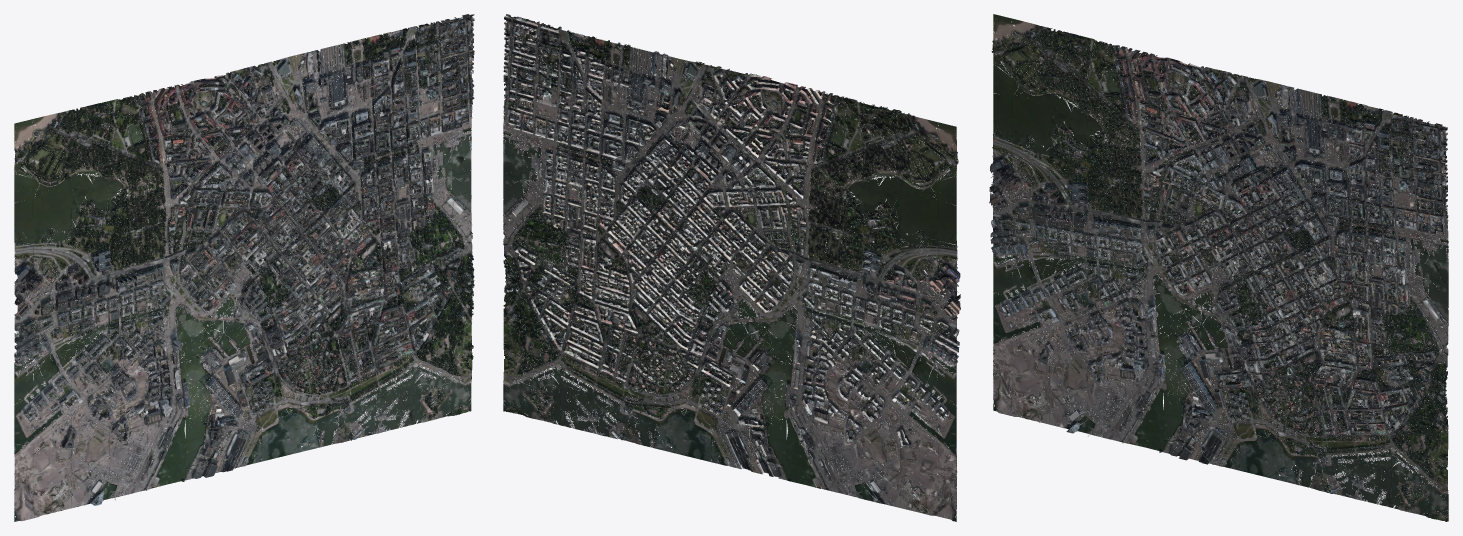
Rendered from fh-mobile.glb.
The picture shows the model from 3 angles, left to right: view 1: azimuth 30°, elevation 25°; view 2: azimuth 150°, elevation 25°; view 3: azimuth 330°, elevation 25°; orthographic projection.
Visible parts, largest first — view 1: Tile_+025_+014_L17_0001; view 2: Tile_+025_+014_L17_0001; view 3: Tile_+025_+014_L17_0001.
Boxes of the visible parts, x1,y1,x2,y2 form: Tile_+025_+014_L17_0001: (14,14,474,521); Tile_+025_+014_L17_0001: (503,14,960,521); Tile_+025_+014_L17_0001: (989,14,1448,521).
Size of the model in its own units: 3003 by 2500 by 173.
Materials: 1 (1 with a texture image).
